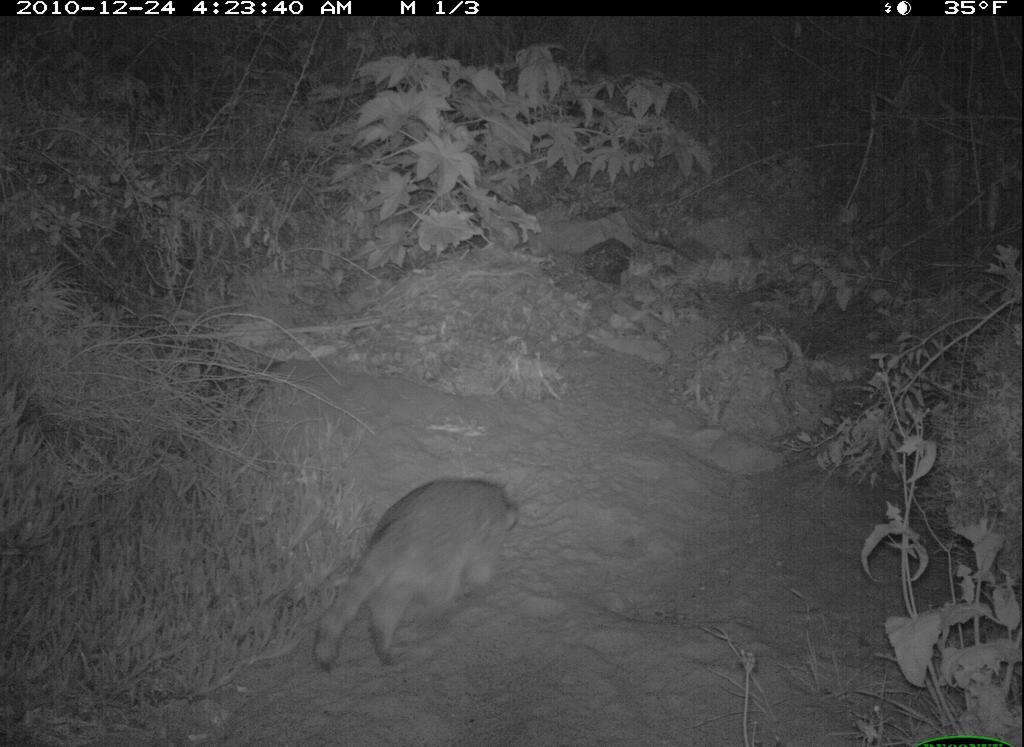raccoon: (295, 467, 528, 678)
